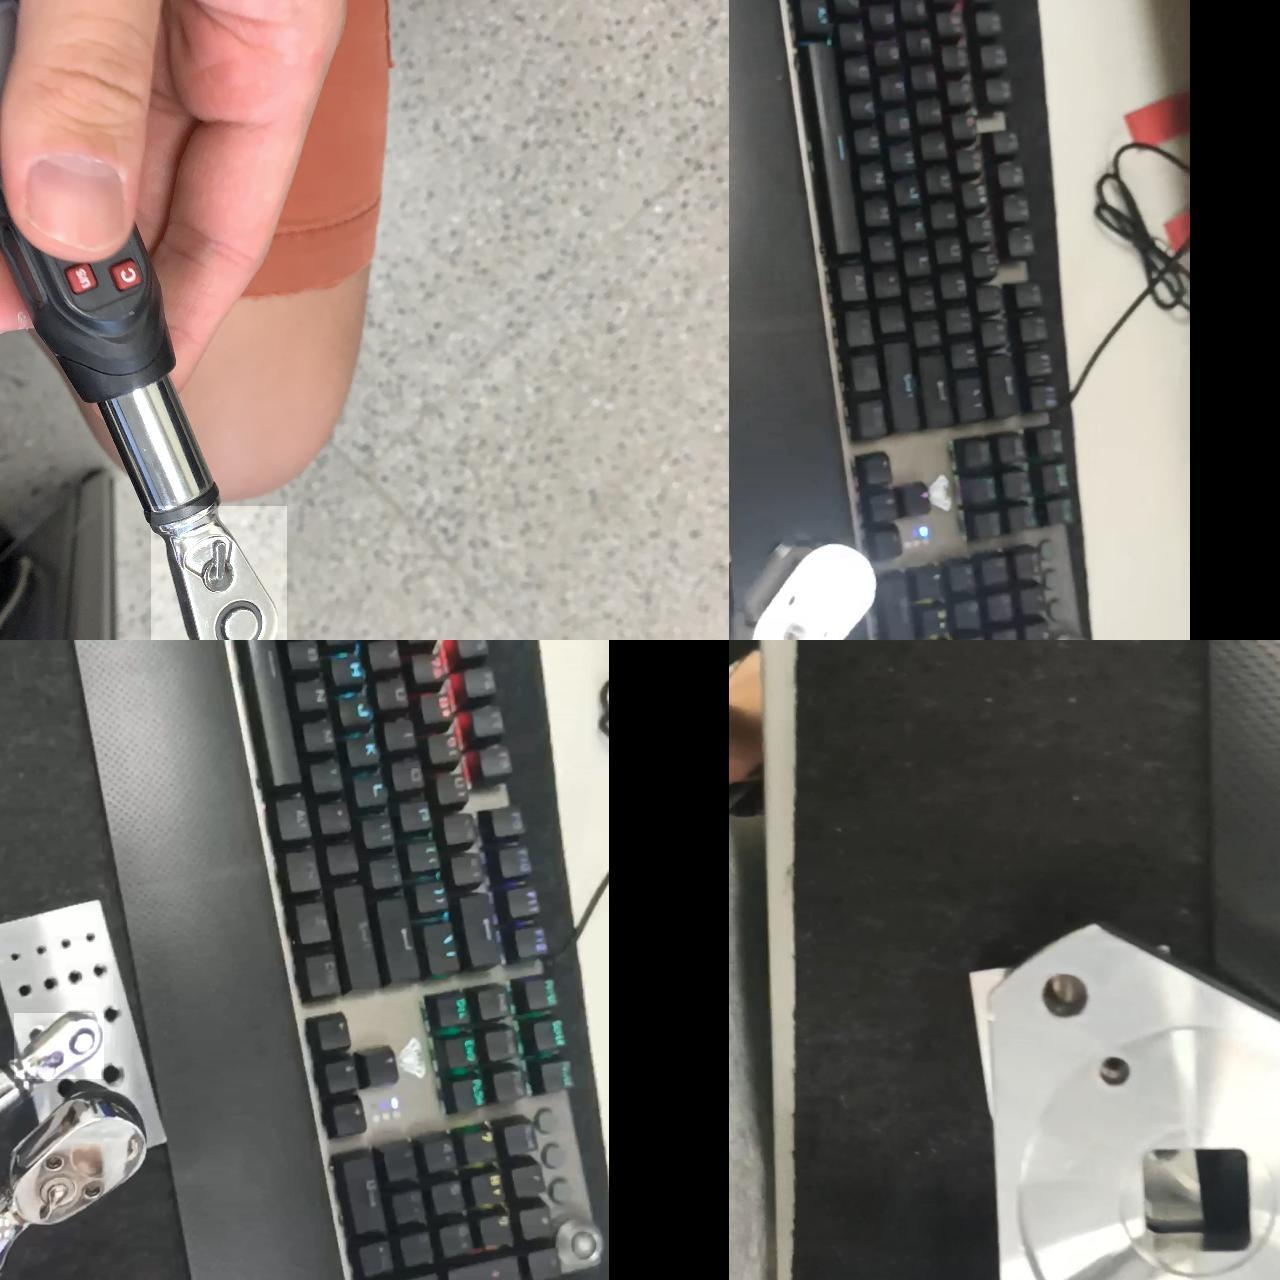Tool: (0, 1095, 148, 1275), (150, 506, 286, 640), (13, 1013, 103, 1079)
